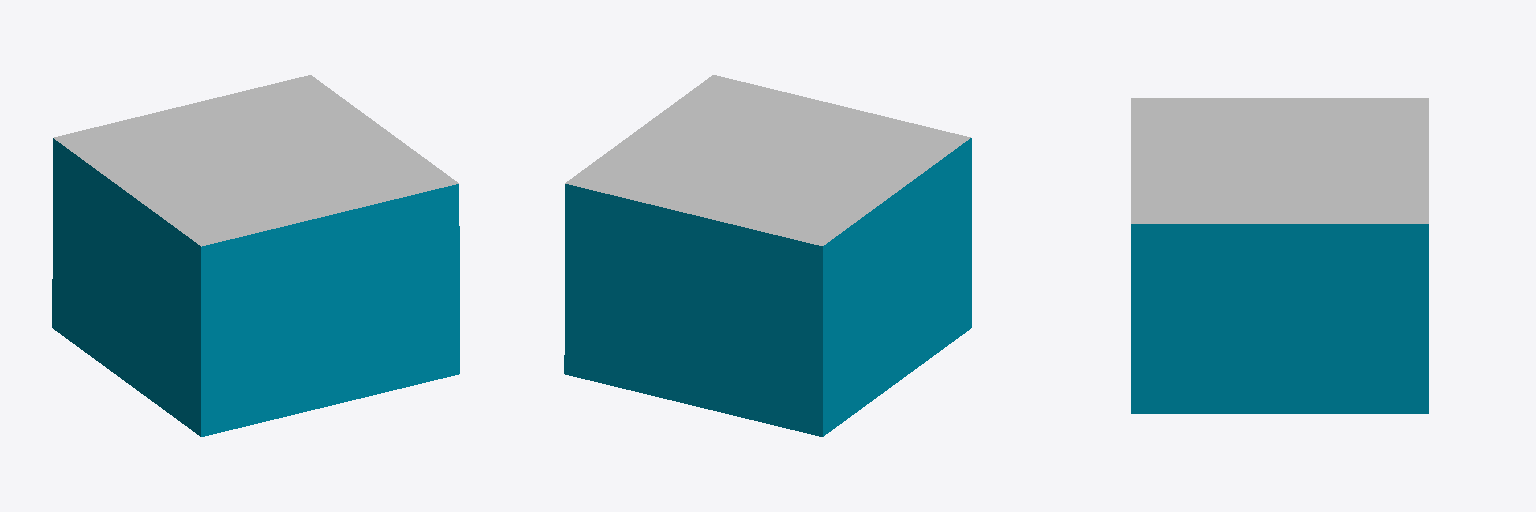
Rendered from restart_scene.obj.
3 renders of one model, left to right at view 1: azimuth 30°, elevation 25°; view 2: azimuth 150°, elevation 25°; view 3: azimuth 270°, elevation 25°, orthographic.
Parts seen in each view (by area): view 1: Room; view 2: Room; view 3: Room.
Part boxes in pixels (x1,y1,x2,y2): Room: (52, 75, 459, 436); Room: (564, 75, 971, 436); Room: (1131, 98, 1428, 413).
Size of the model in its own units: 5.35 by 3.78 by 5.35.